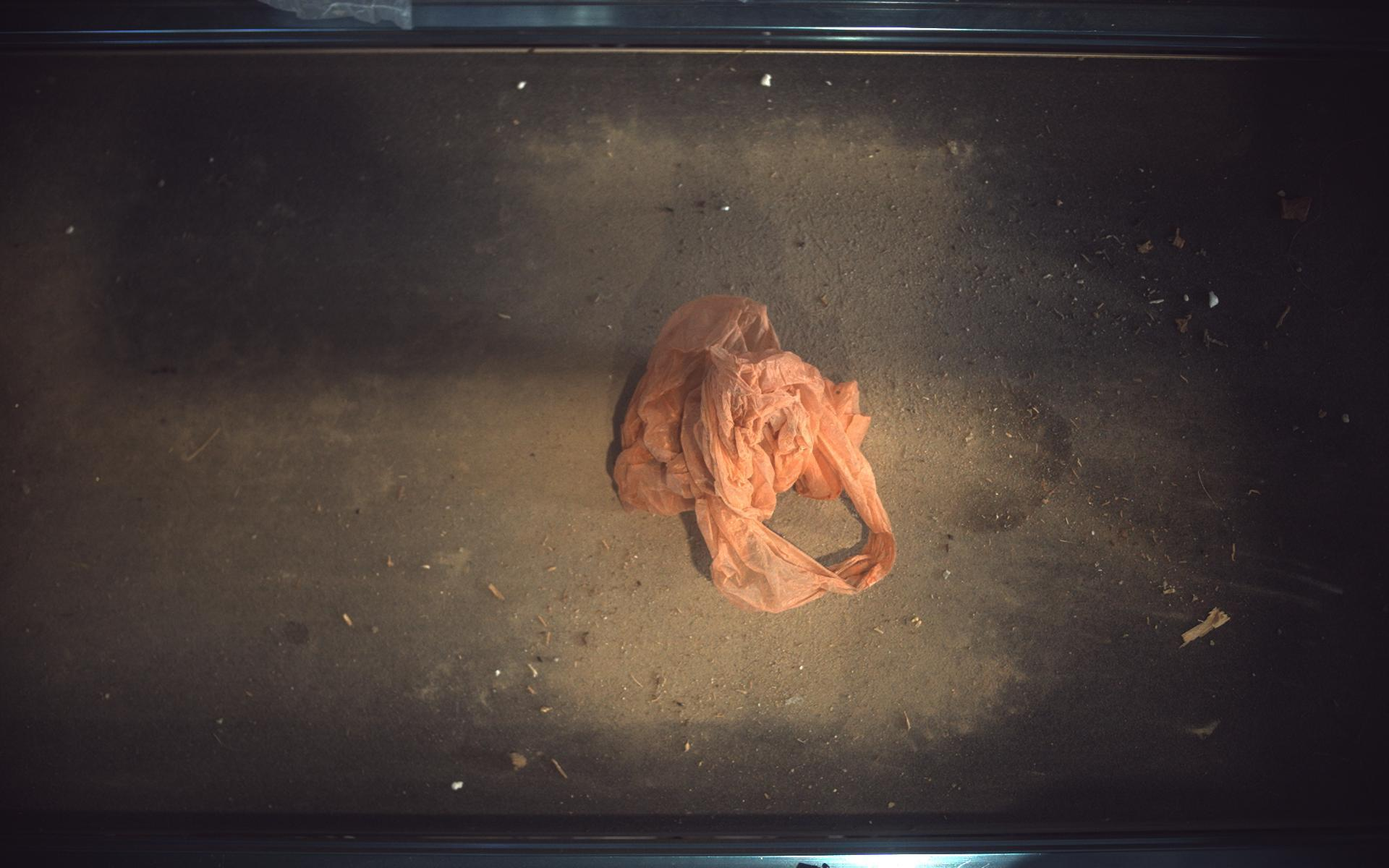general_w: (614, 297, 898, 613)
